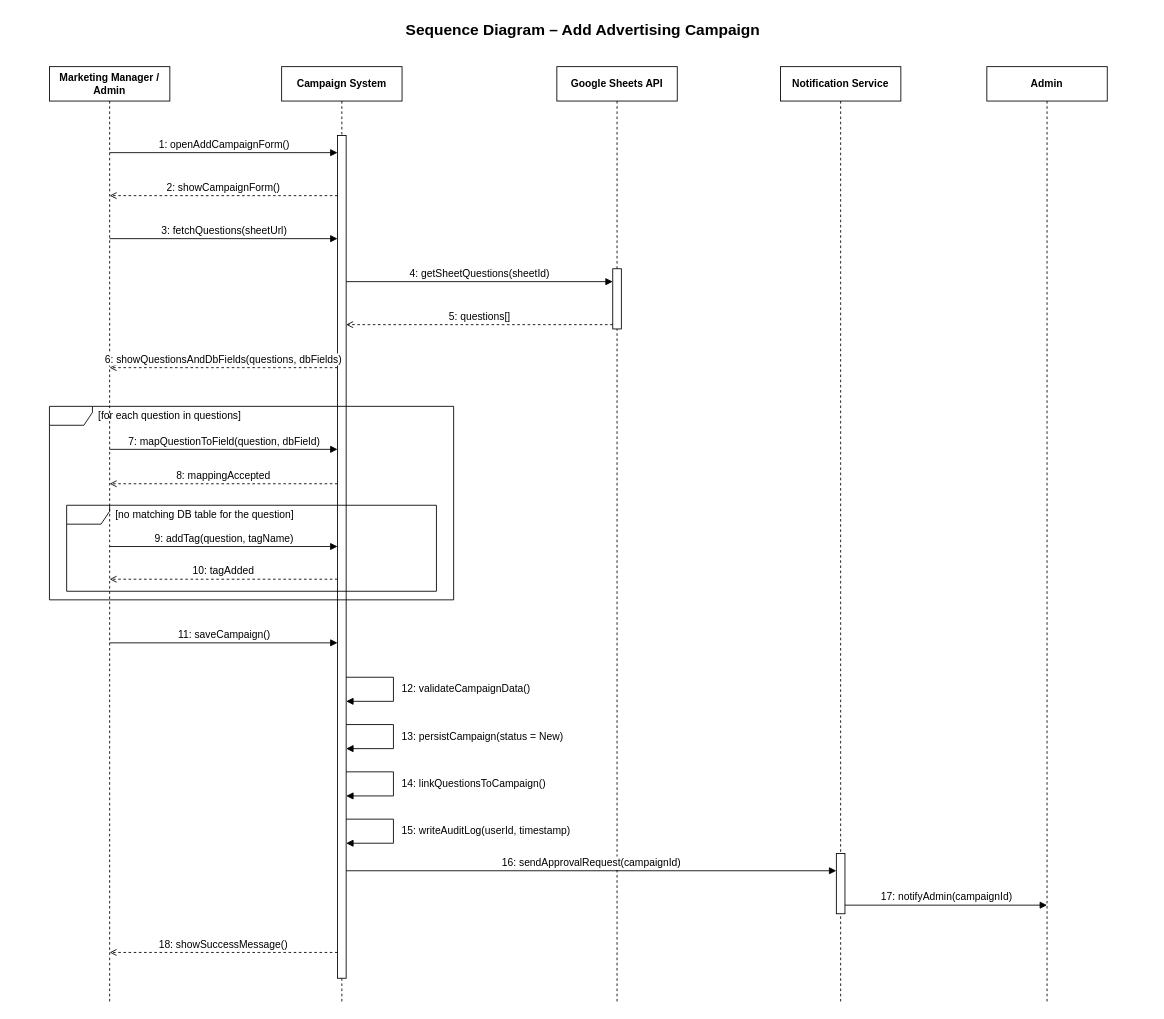
The diagram is 1164 pixels wide and 1019 high, and some of its shapes have lost their labels. The shapes that lost their labels are listed below. From the top down, each one's box as (x1, y1, x2, y2) in pixels, then its label:
(49, 405, 454, 600): loop
(66, 504, 436, 591): opt
